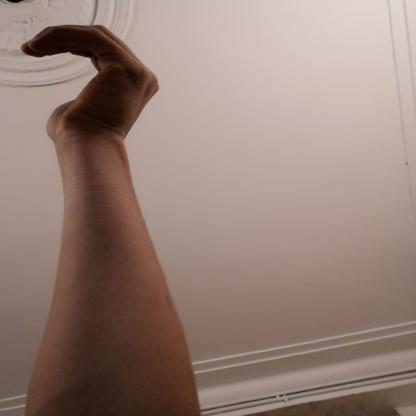HAA: (8, 12, 183, 165)
